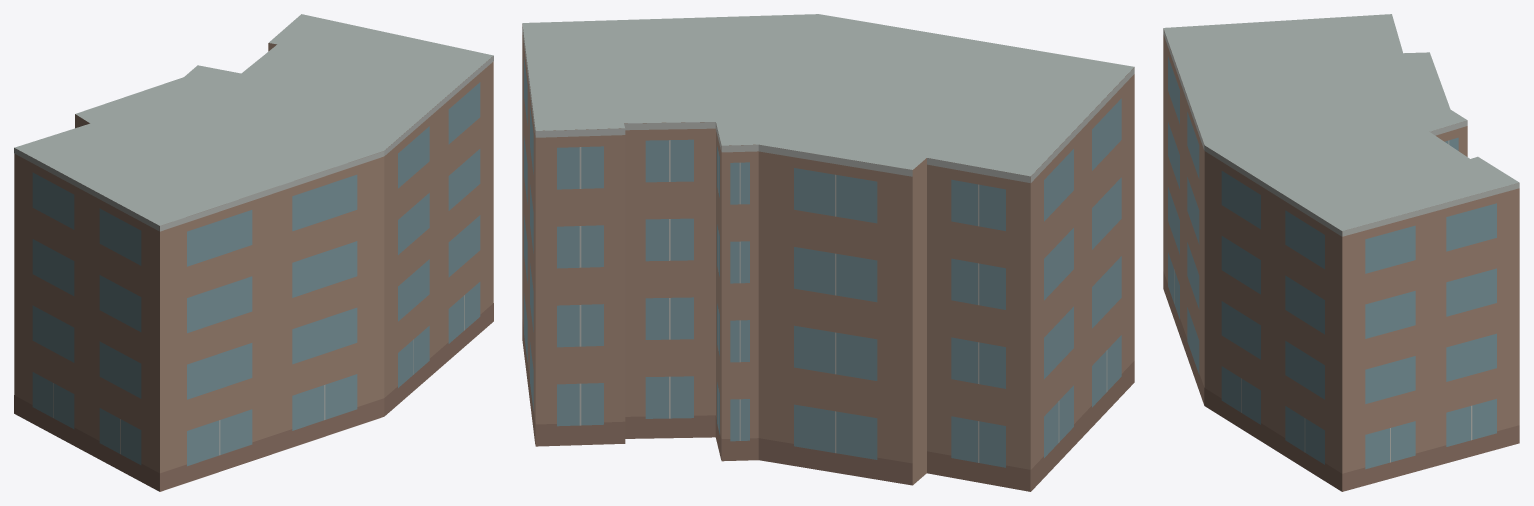
Rendered from survey-upis-32575003.glb.
3 renders of one model, left to right at view 1: azimuth 30°, elevation 25°; view 2: azimuth 150°, elevation 25°; view 3: azimuth 270°, elevation 25°, orthographic. The views are drawn at different scales.
Visible parts, largest first — view 1: survey-upis-32575003.tmp; view 2: survey-upis-32575003.tmp; view 3: survey-upis-32575003.tmp.
Part boxes in pixels (<box>): survey-upis-32575003.tmp: <box>14,14,493,491</box>; survey-upis-32575003.tmp: <box>522,14,1134,491</box>; survey-upis-32575003.tmp: <box>1163,14,1519,491</box>.
Size of the model in its own units: 20.2 by 11.3 by 14.01.
